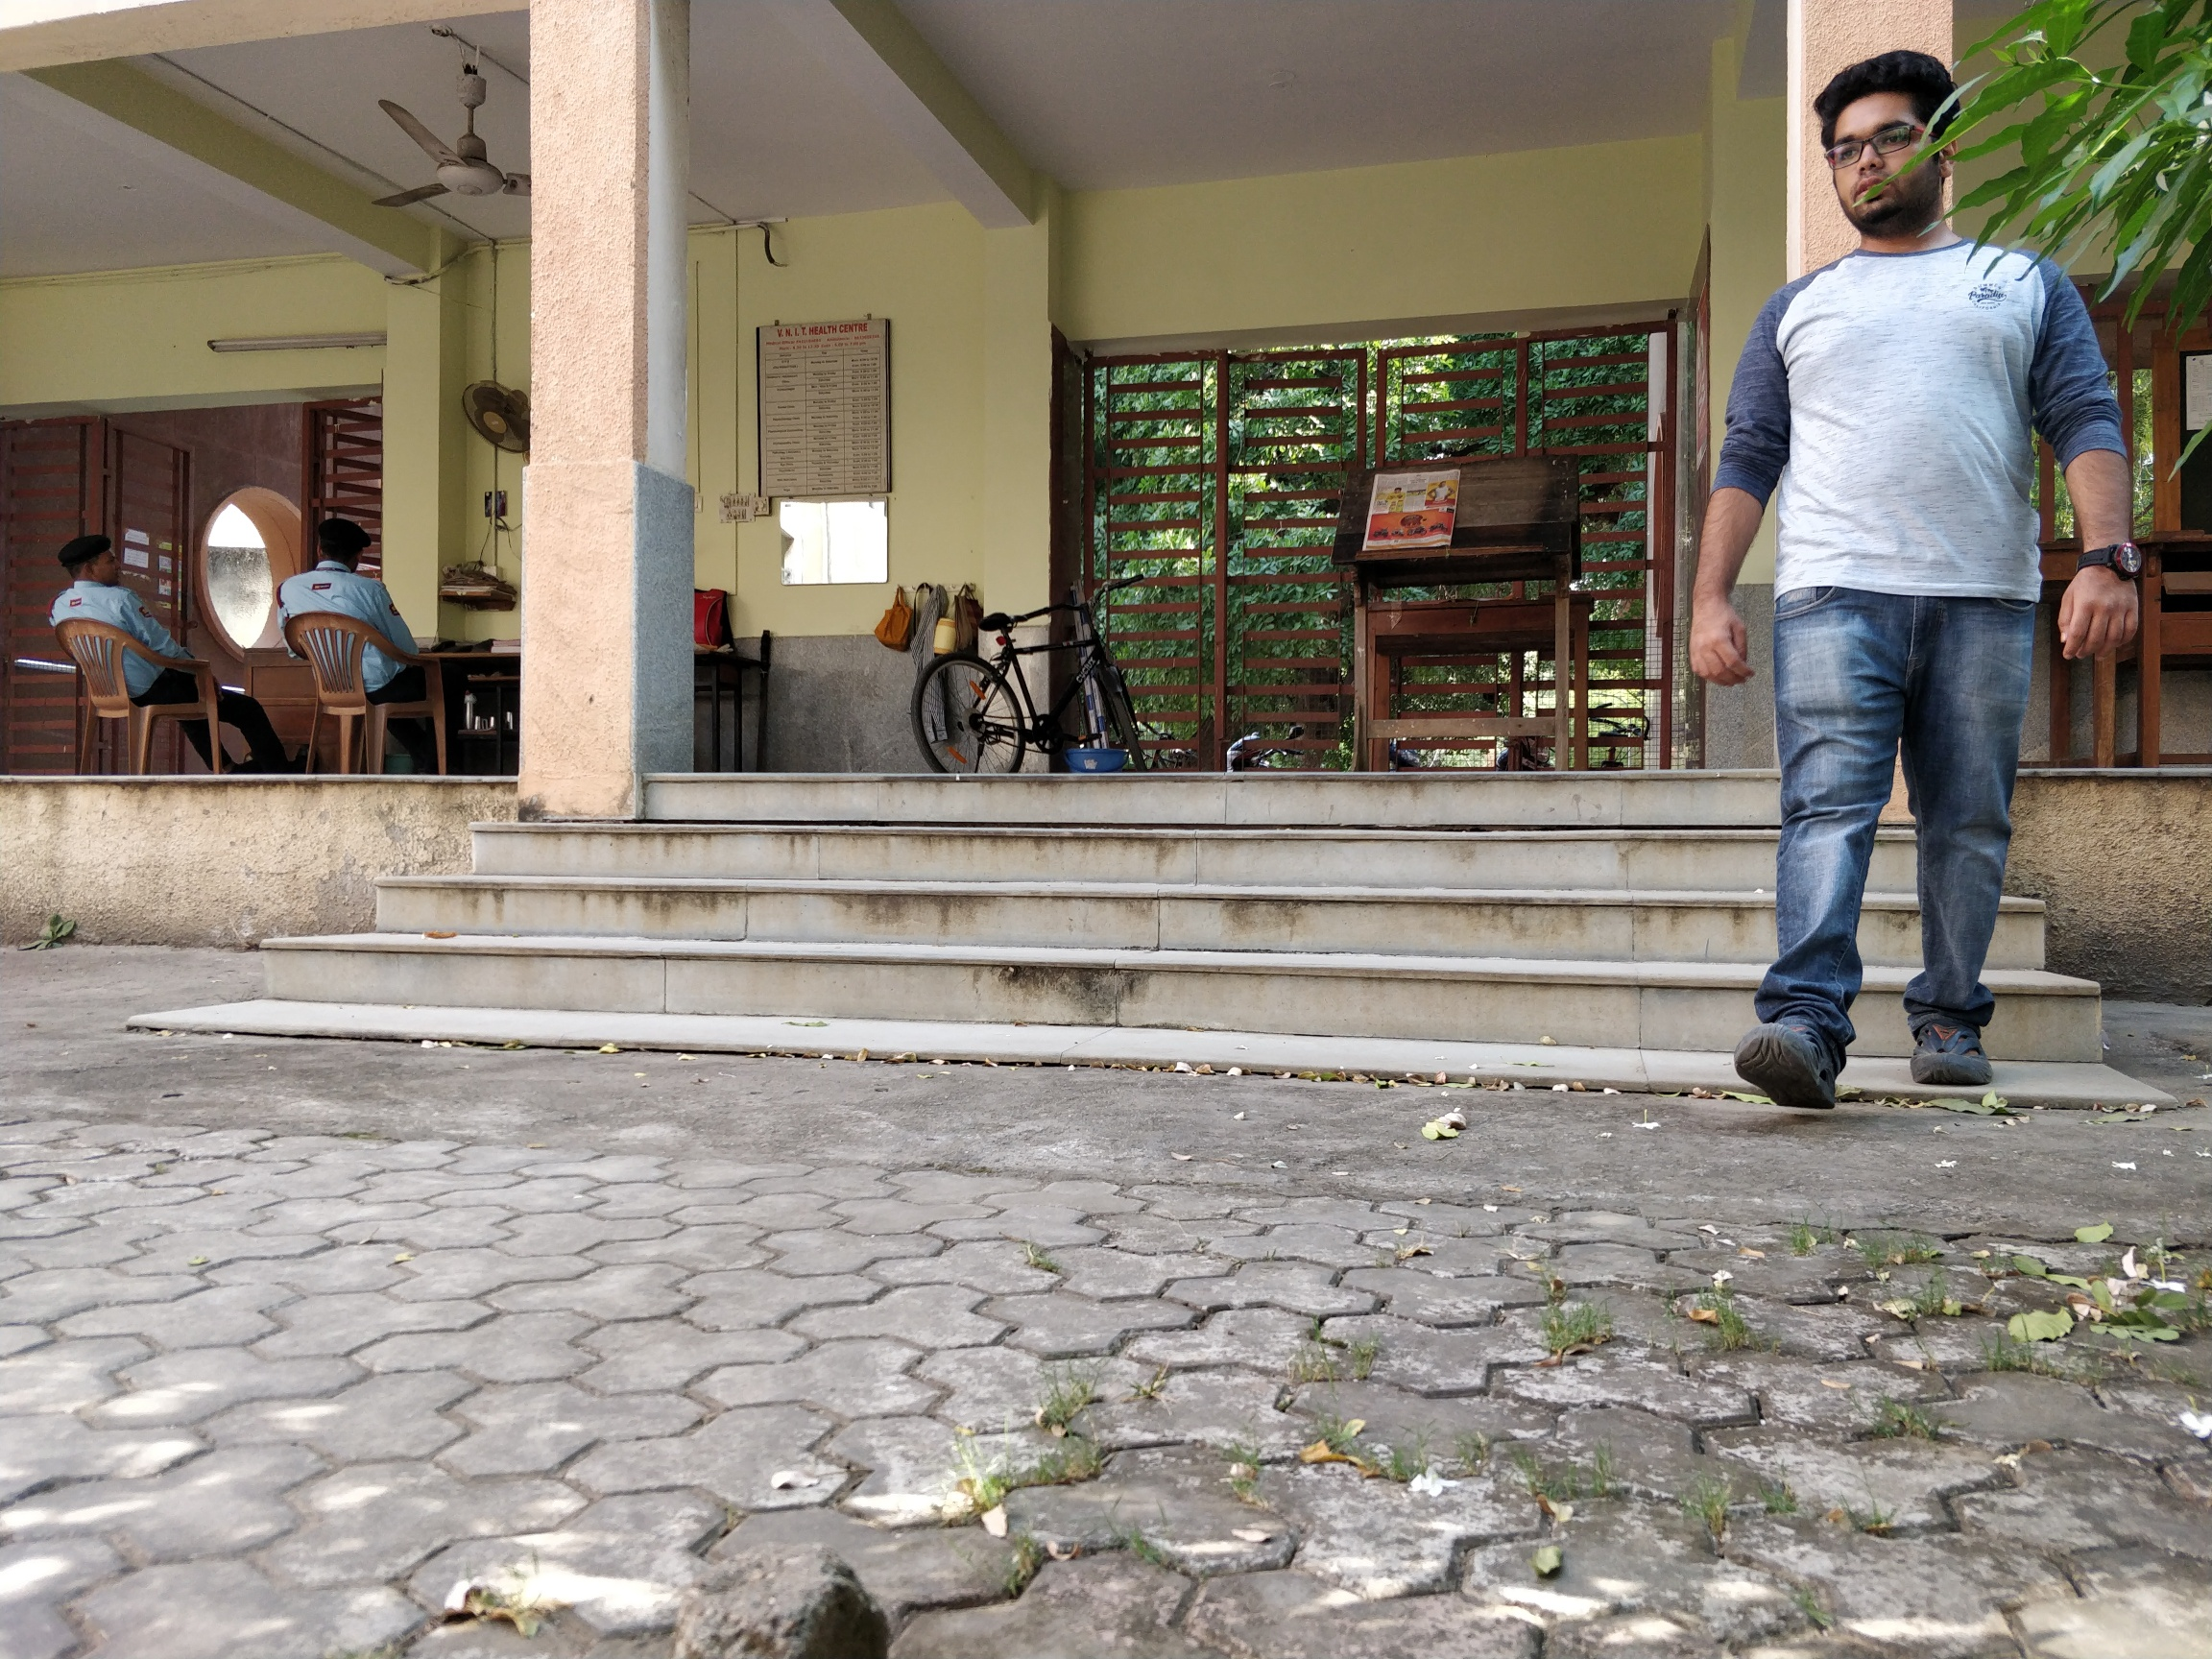stairs_up: (284, 769, 2109, 1054)
